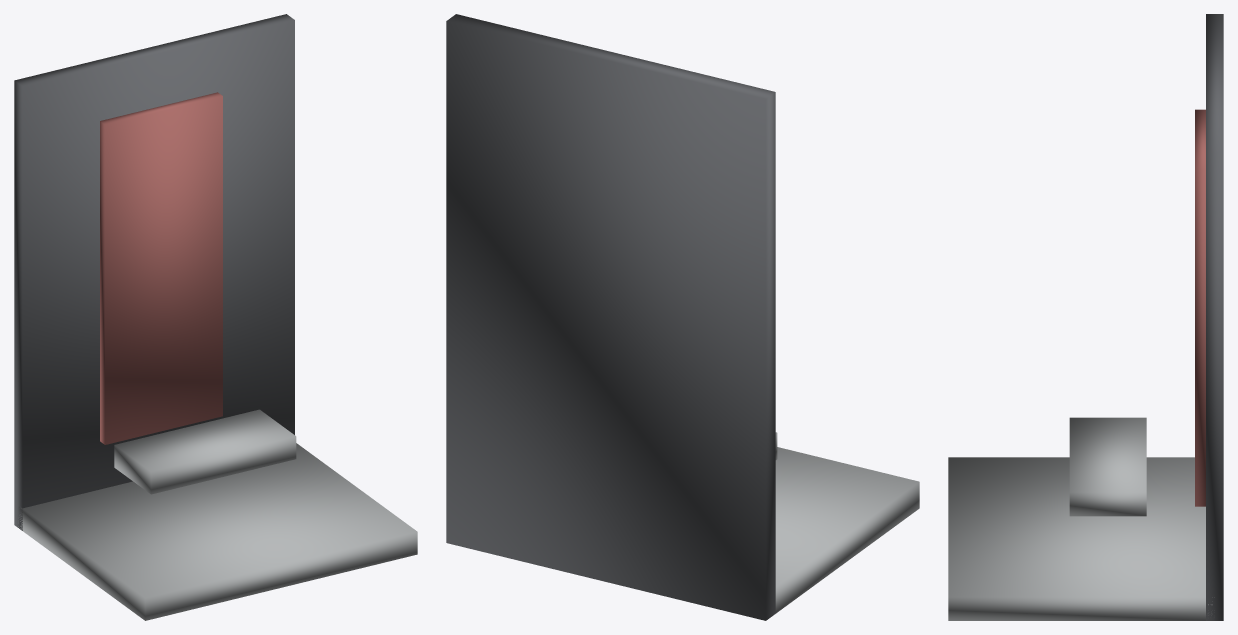
File: roof_access_hatch_stair_03.glb
The picture shows the model from 3 angles, left to right: view 1: azimuth 30°, elevation 25°; view 2: azimuth 150°, elevation 25°; view 3: azimuth 270°, elevation 25°; orthographic projection. The views are drawn at different scales.
Parts seen in each view (by area): view 1: world; view 2: world; view 3: world.
Boxes of the visible parts, x1,y1,x2,y2 form: world: [14, 14, 417, 620]; world: [446, 14, 919, 620]; world: [948, 14, 1223, 620].
Size of the model in its own units: 1.5 by 2.34 by 1.25.
